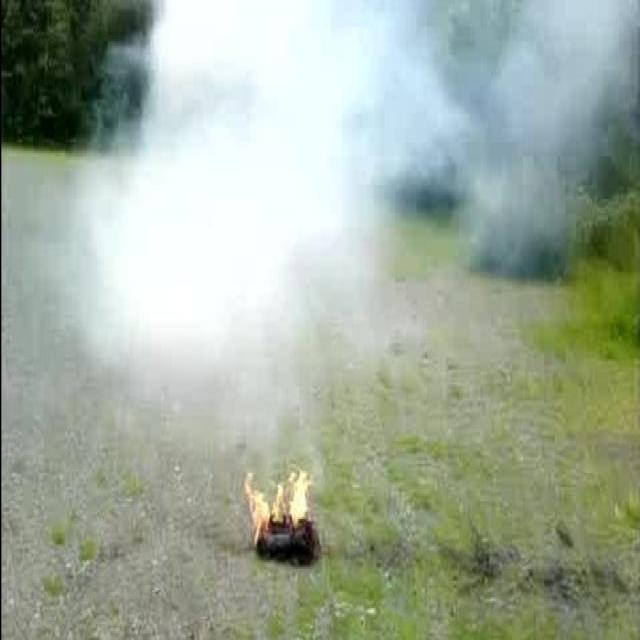fire: (242, 468, 314, 526)
smoke: (99, 0, 432, 409), (436, 2, 638, 252)
